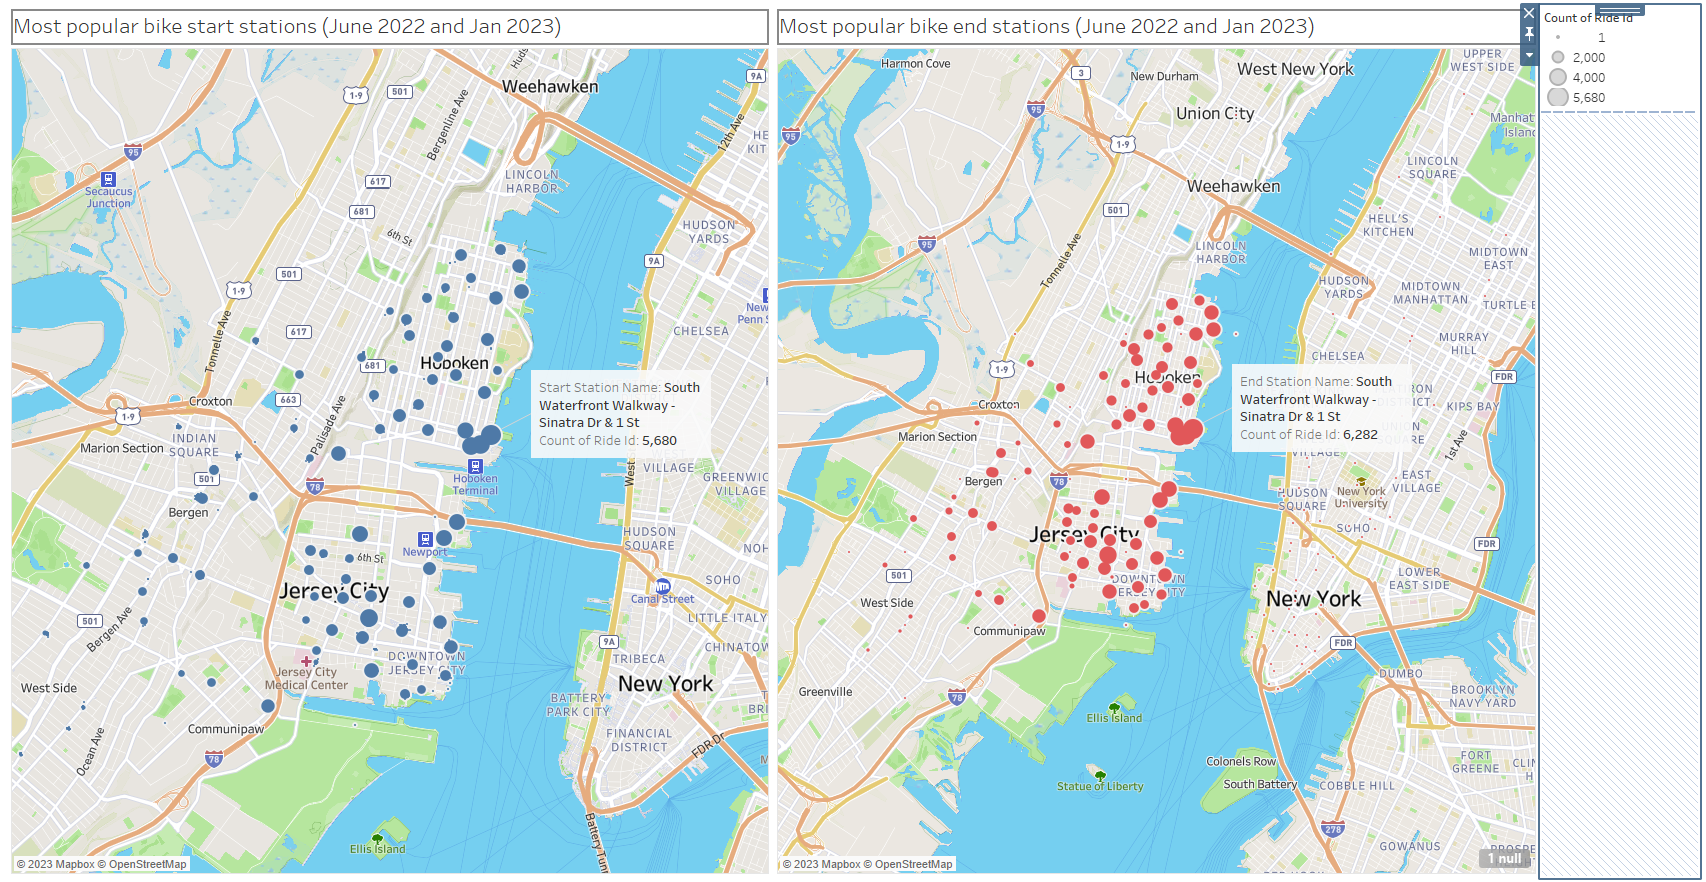

This screenshot's page, from the dashboard's own definition file:
{"tool":"tableau","page":{"name":"Dashboard 1- popular end and start stations","canvas":[1000,1000],"units":"permille","ordinal":1},"visuals":[{"type":"worksheet","title":"Popular bike start stations","mark":"Automatic","rows":["start_lat"],"cols":["start_lng"],"box":[4.7,9,448.5,982]},{"type":"worksheet","title":"Popular bike end stations","mark":"Automatic","rows":["end_lat"],"cols":["end_lng"],"box":[453.2,9,448.5,982]},{"type":"legend","title":"Popular bike start stations","param":"[federated.15f04g41qdr9iw1bvkwrk0wuixlj].[cnt:ride_id:qk]","box":[901.7,9,93.6,119.2]}]}

Visuals, with their boxes on the dashboard's canvas, which has no fixed pixel size, in thousandths of its width and height (x1, y1, x2, y2). These are canvas units, not pixel positions in the 1706x882 screenshot, which may show the page scaled, cropped or inside an application window:
"Popular bike start stations" worksheet: 5, 9, 453, 991
"Popular bike end stations" worksheet: 453, 9, 902, 991
"Popular bike start stations" legend: 902, 9, 995, 128
